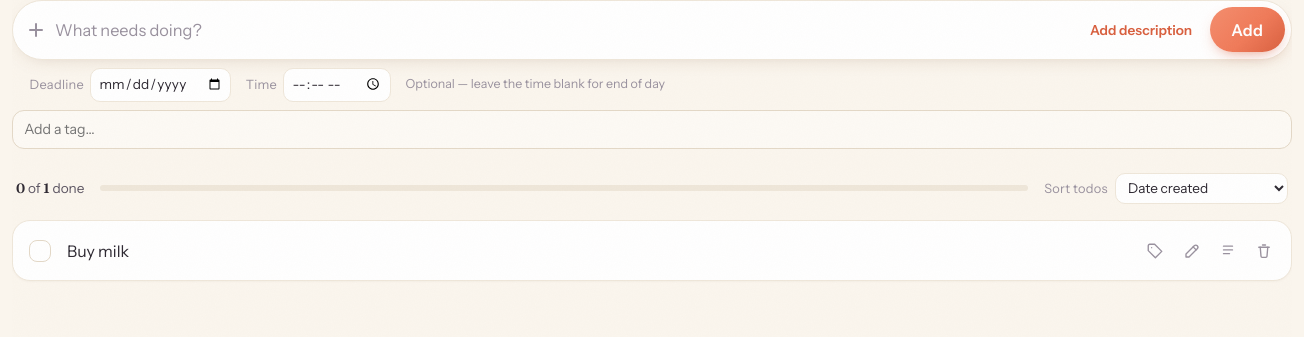
Scenario: TodoApp edit › saves on blur and supports double-click to edit
The width and height of the screenshot is (1304, 337).
Double-click the text "Buy milk": (98, 251) [67, 239, 129, 263]
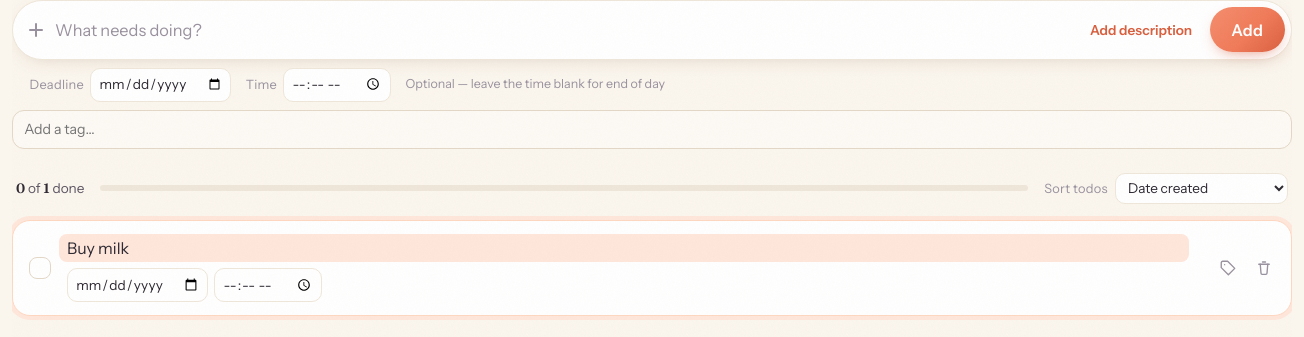
Replace the text in the field named "Edit todo title" with "Buy bread": (624, 248) [59, 234, 1189, 262]
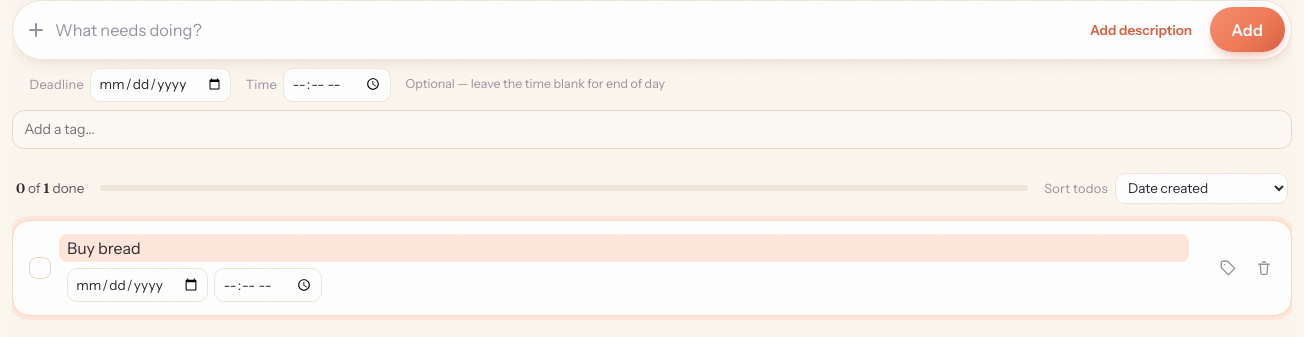
// Move focus out of the whole edit block (title + deadline fields).
Press Shift+Tab
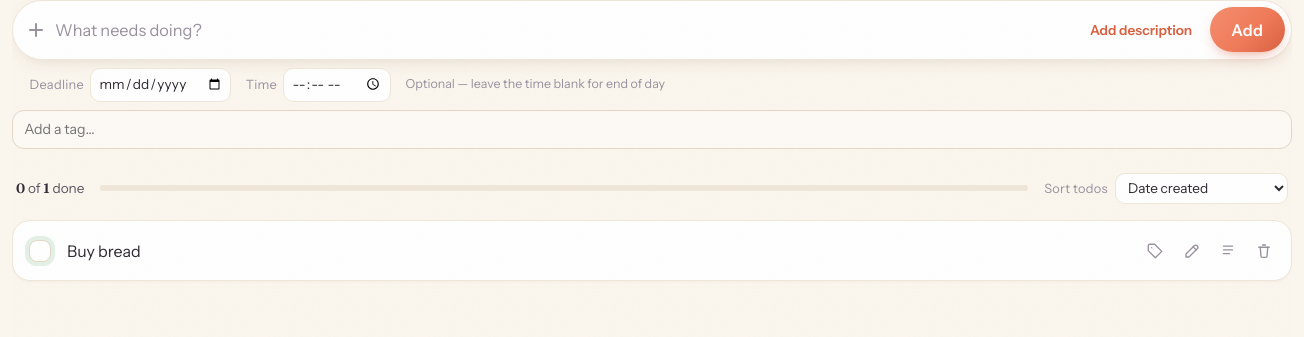
Expected: the text "Buy bread" is shown, [67, 239, 141, 263]
